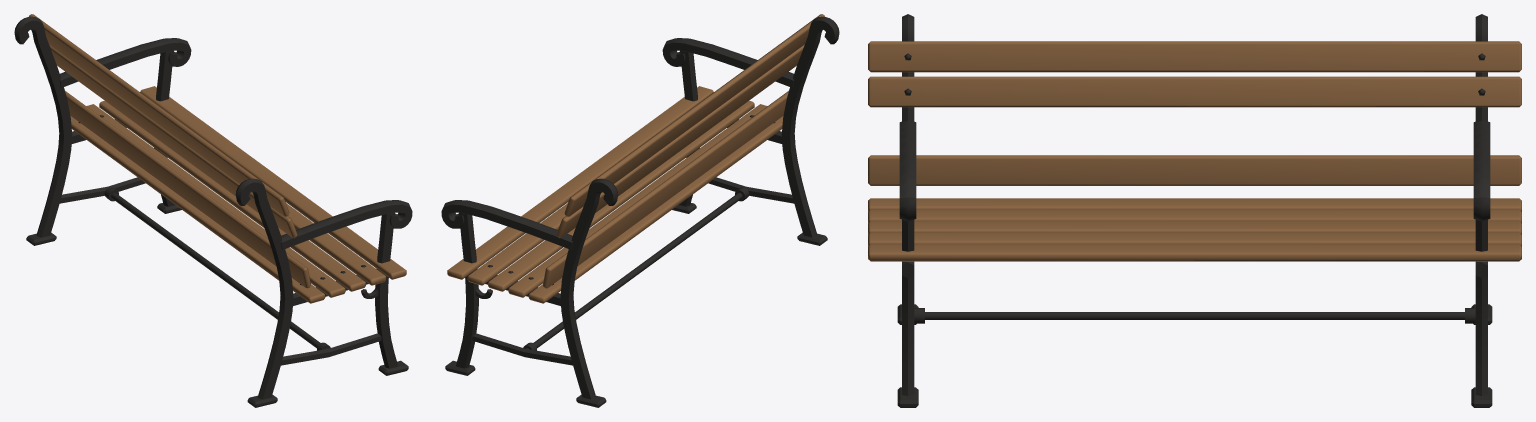
3 views of the same model, side by side, from view 1: azimuth 30°, elevation 25°; view 2: azimuth 150°, elevation 25°; view 3: azimuth 270°, elevation 25° (orthographic). The views are drawn at different scales.
Parts seen in each view (by area): view 1: Slats_Oak, Frame_Iron; view 2: Slats_Oak, Frame_Iron; view 3: Slats_Oak, Frame_Iron.
Part boxes in pixels (left/top/right/bottom): Slats_Oak: left=29, top=14, right=406, bottom=303; Frame_Iron: left=14, top=16, right=412, bottom=407; Slats_Oak: left=447, top=14, right=824, bottom=303; Frame_Iron: left=441, top=16, right=839, bottom=407; Slats_Oak: left=868, top=41, right=1521, bottom=261; Frame_Iron: left=897, top=14, right=1492, bottom=407.
Bounding box in the file's own units: 0.7217 × 0.8955 × 1.8.
